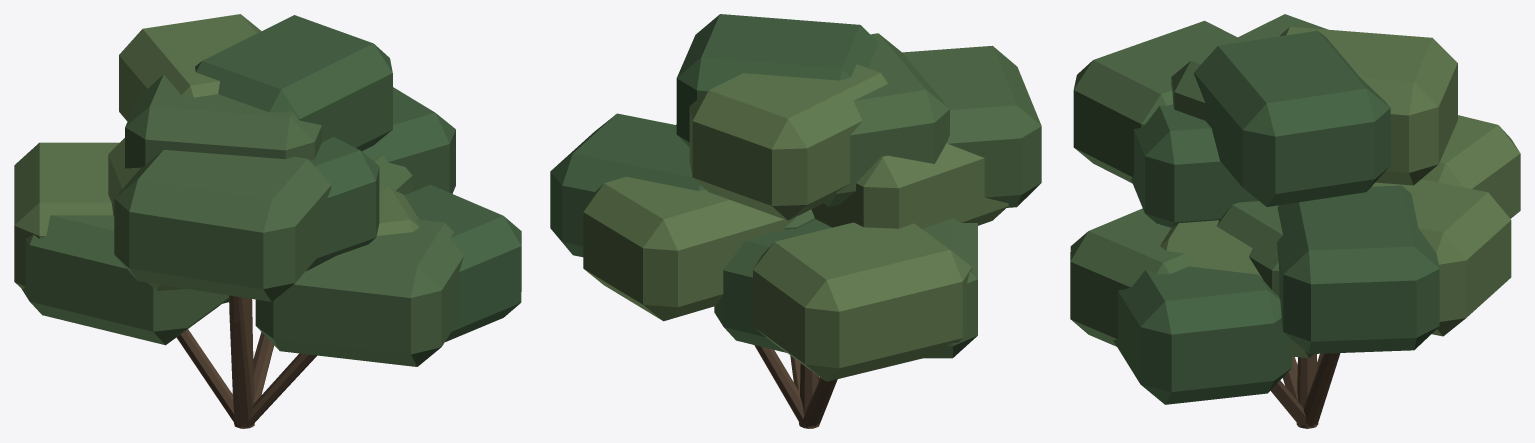
File: blueberry_summer_picked.glb
3 renders of one model, left to right at view 1: azimuth 30°, elevation 25°; view 2: azimuth 150°, elevation 25°; view 3: azimuth 270°, elevation 25°, orthographic.
Parts seen in each view (by area): view 1: blueberry_summer_picked; view 2: blueberry_summer_picked; view 3: blueberry_summer_picked.
Part boxes in pixels (<box>): blueberry_summer_picked: <box>14,14,521,428</box>; blueberry_summer_picked: <box>550,14,1041,428</box>; blueberry_summer_picked: <box>1070,14,1520,428</box>.
Size of the model in its own units: 1.75 by 1.52 by 1.65.
